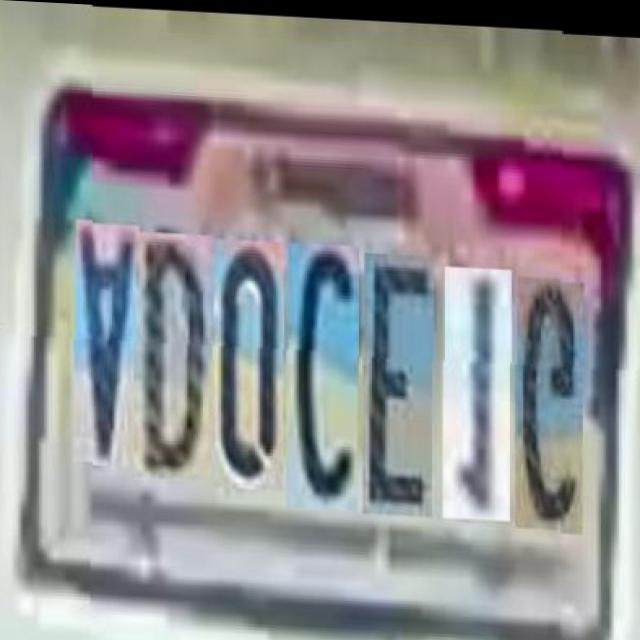0: (214, 237, 285, 488)
1: (445, 262, 512, 516)
a: (75, 222, 139, 466)
c: (288, 239, 360, 507)
d: (136, 230, 213, 479)
e: (364, 249, 434, 513)
g: (516, 270, 584, 525)
